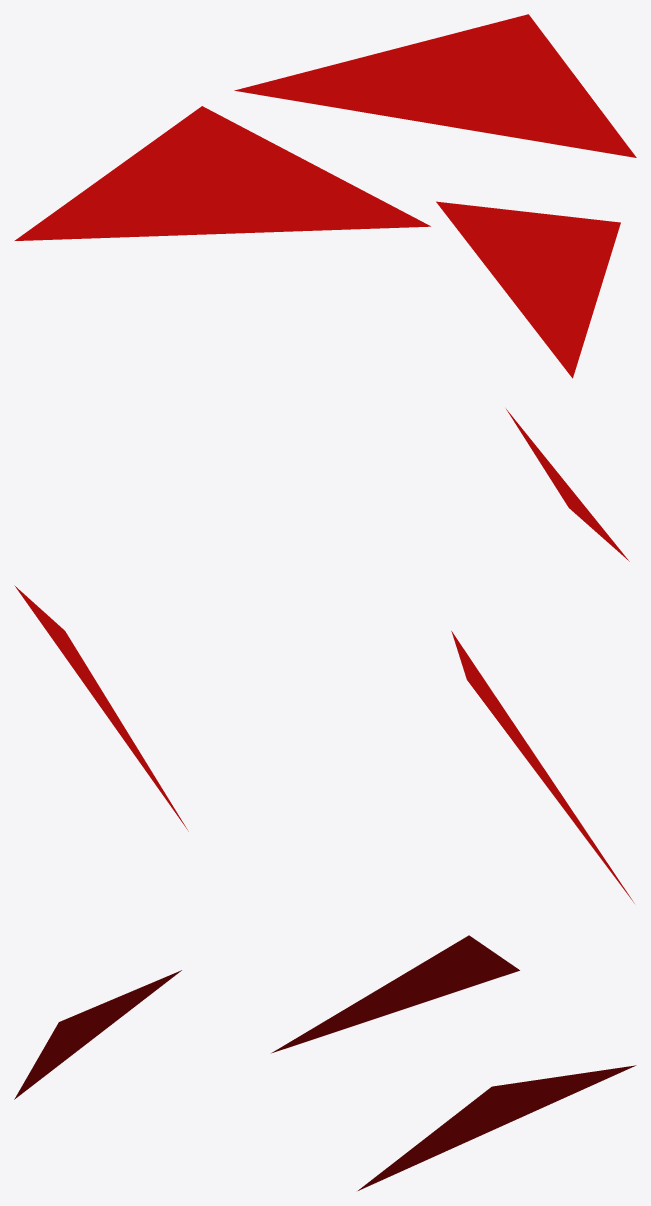
Rendered from EdgeVisibilityLineString.glb.
3 views of the same model, one above another, from view 1: azimuth 30°, elevation 25°; view 2: azimuth 150°, elevation 25°; view 3: azimuth 270°, elevation 25° (orthographic). The views are drawn at different scales.
Size of the model in its own units: 15.28 by 3.3 by 16.89.
